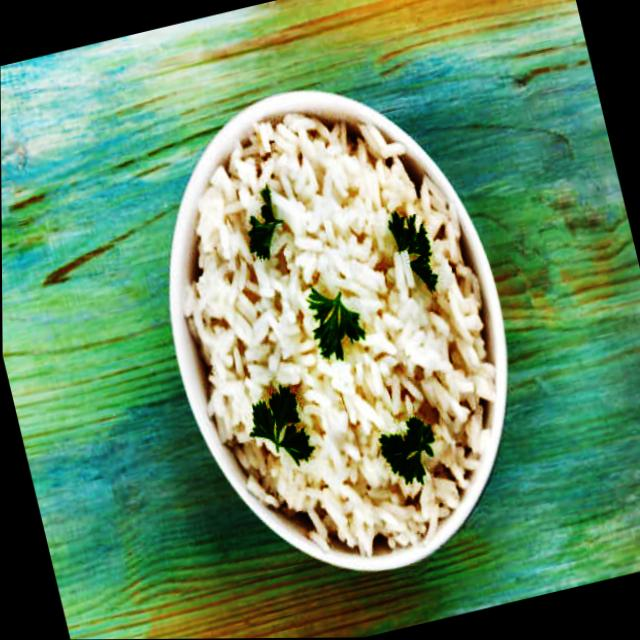rice: (143, 77, 539, 592)
